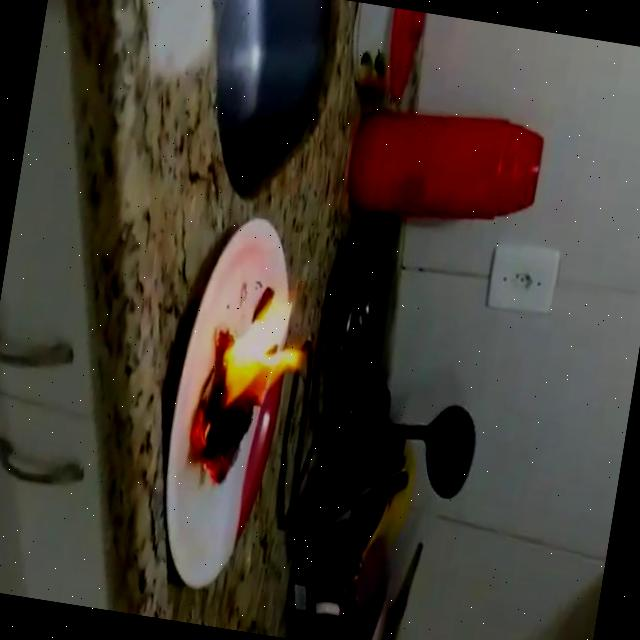fire: (174, 273, 318, 502)
